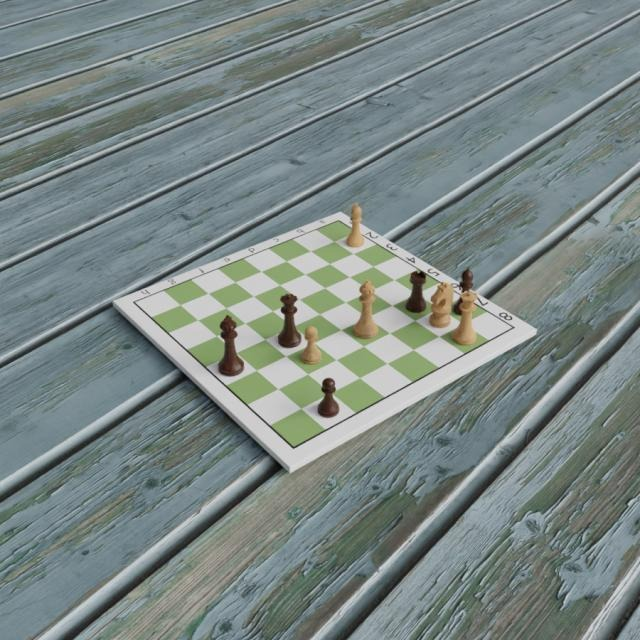black-bishop: (452, 266, 475, 316)
black-king: (218, 315, 245, 377)
black-pawn: (315, 377, 340, 419)
black-queen: (276, 292, 303, 347)
black-rook: (404, 269, 427, 314)
white-bishop: (347, 201, 365, 248)
white-king: (352, 279, 380, 340)
white-knight: (428, 279, 455, 328)
white-pawn: (301, 326, 322, 366)
white-rook: (450, 289, 477, 346)
